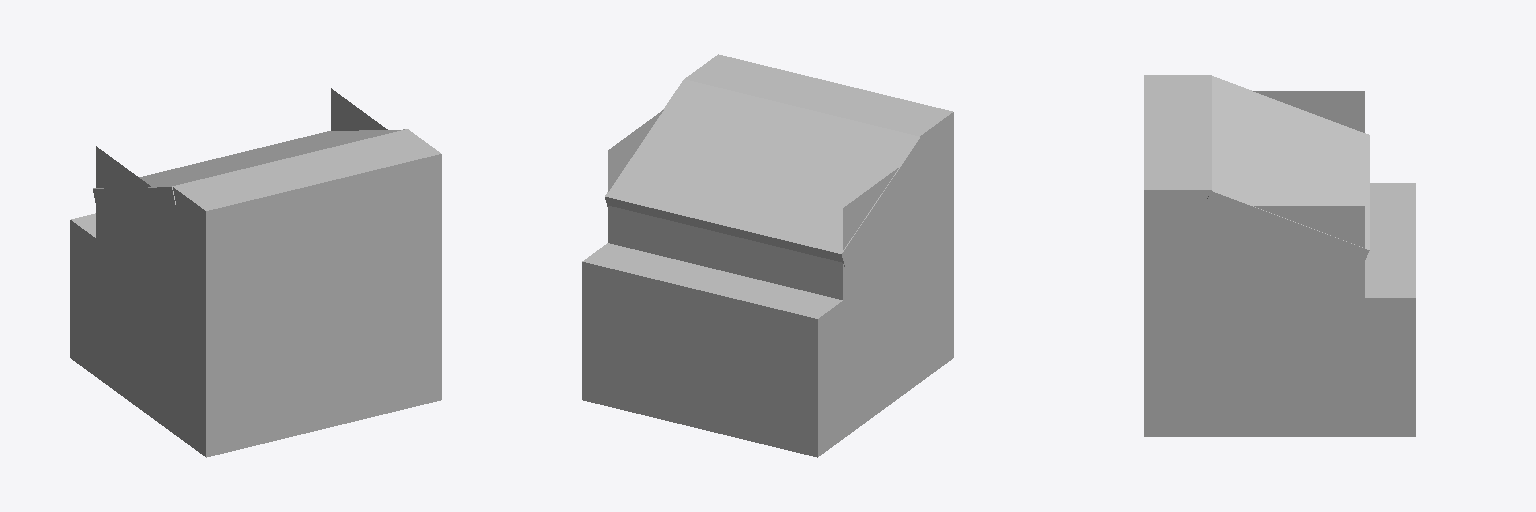
Rendered from mechanical_calculator_base.obj.
3 views of the same model, side by side, from view 1: azimuth 30°, elevation 25°; view 2: azimuth 150°, elevation 25°; view 3: azimuth 270°, elevation 25° (orthographic).
Parts seen in each view (by area): view 1: c1, c2, c5, c4, c3; view 2: c1, c5, c3, c2, c4; view 3: c1, c5, c2, c4, c3.
Boxes of the visible parts, x1=… form: c1: x1=70, y1=213, x2=441, y2=457; c2: x1=172, y1=129, x2=441, y2=318; c5: x1=93, y1=129, x2=404, y2=206; c4: x1=96, y1=88, x2=387, y2=246; c3: x1=96, y1=207, x2=171, y2=293; c1: x1=582, y1=220, x2=953, y2=457; c5: x1=605, y1=79, x2=923, y2=266; c3: x1=608, y1=198, x2=919, y2=299; c2: x1=685, y1=54, x2=953, y2=243; c4: x1=608, y1=110, x2=919, y2=249; c1: x1=1144, y1=183, x2=1415, y2=436; c5: x1=1204, y1=76, x2=1369, y2=265; c2: x1=1144, y1=75, x2=1211, y2=297; c4: x1=1212, y1=91, x2=1364, y2=251; c3: x1=1212, y1=252, x2=1364, y2=297.
Bounding box in the file's own units: 1.01 × 1 × 1.